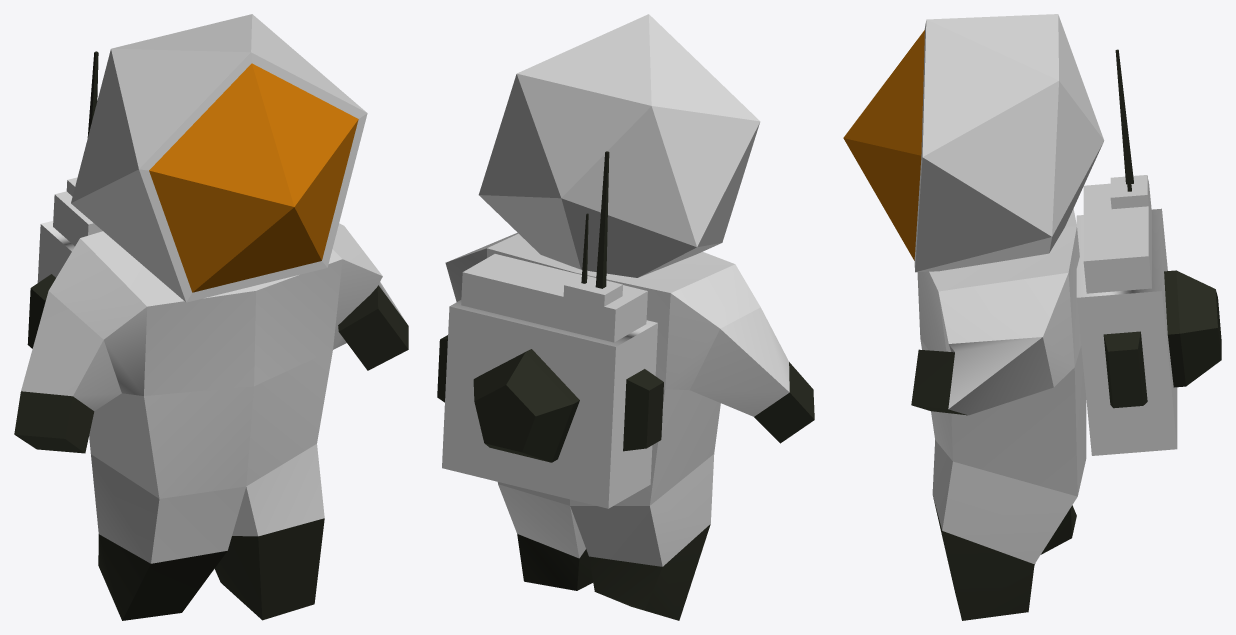
The model's file is character.obj.
3 views of the same model, side by side, from view 1: azimuth 30°, elevation 25°; view 2: azimuth 150°, elevation 25°; view 3: azimuth 270°, elevation 25° (orthographic). The views are drawn at different scales.
Parts seen in each view (by area): view 1: Player_Cube.003; view 2: Player_Cube.003; view 3: Player_Cube.003.
Boxes of the visible parts, bbox=[...] form: Player_Cube.003: bbox=[14, 14, 408, 620]; Player_Cube.003: bbox=[437, 14, 814, 620]; Player_Cube.003: bbox=[843, 14, 1221, 620].
Bounding box in the file's own units: 0.0155 × 0.0232 × 0.0141.
